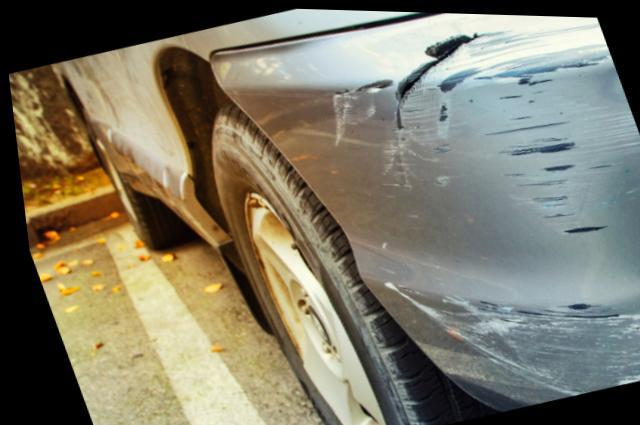crack: (328, 28, 505, 134)
dent: (613, 151, 640, 304)
scratch: (321, 13, 640, 391)
